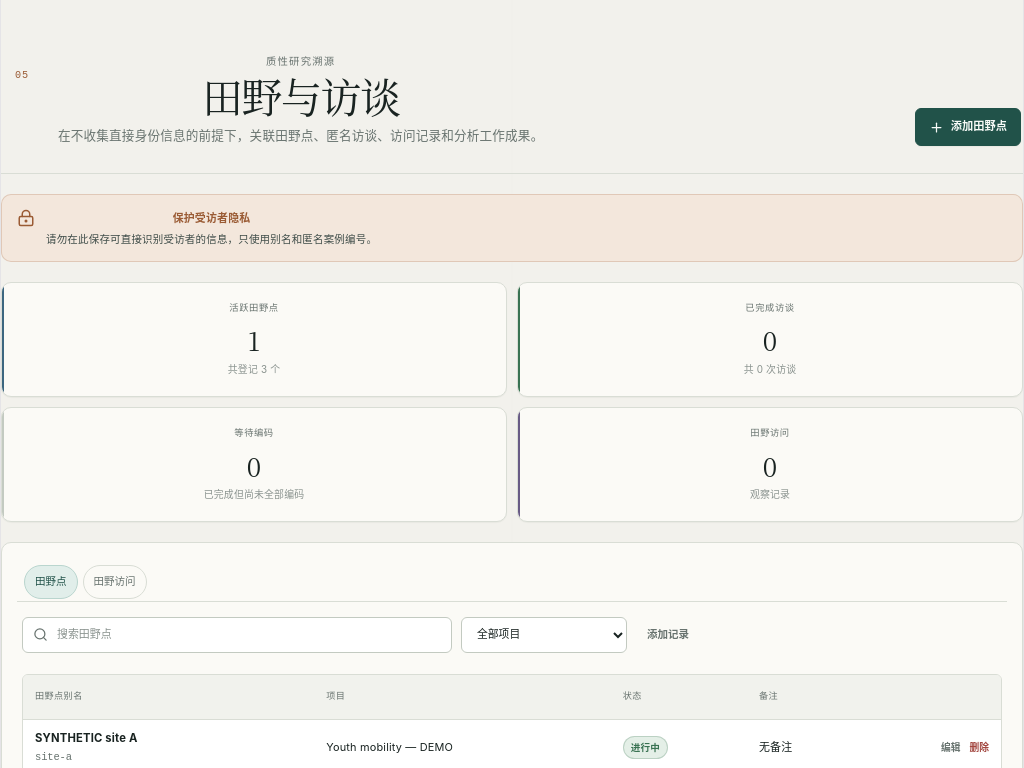
Test: LocalFieldMaps › blocks deleting a field site referenced only by a map marker
The image size is (1024, 768).
Click the button "删除".
click(979, 748)  # box [970, 734, 989, 762]
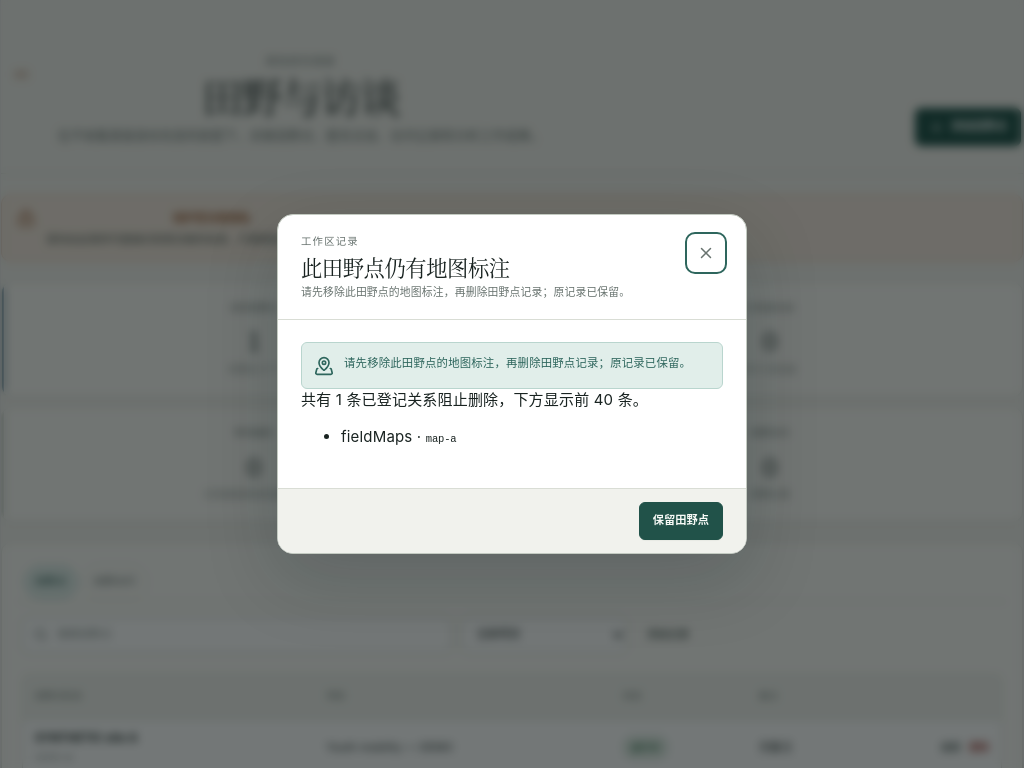
Check: the text "请先移除此田野点的地图标注，再删除田野点记录；原记录已保留。" below "此田野点仍有地图标注" is shown, box [301, 286, 630, 299]
